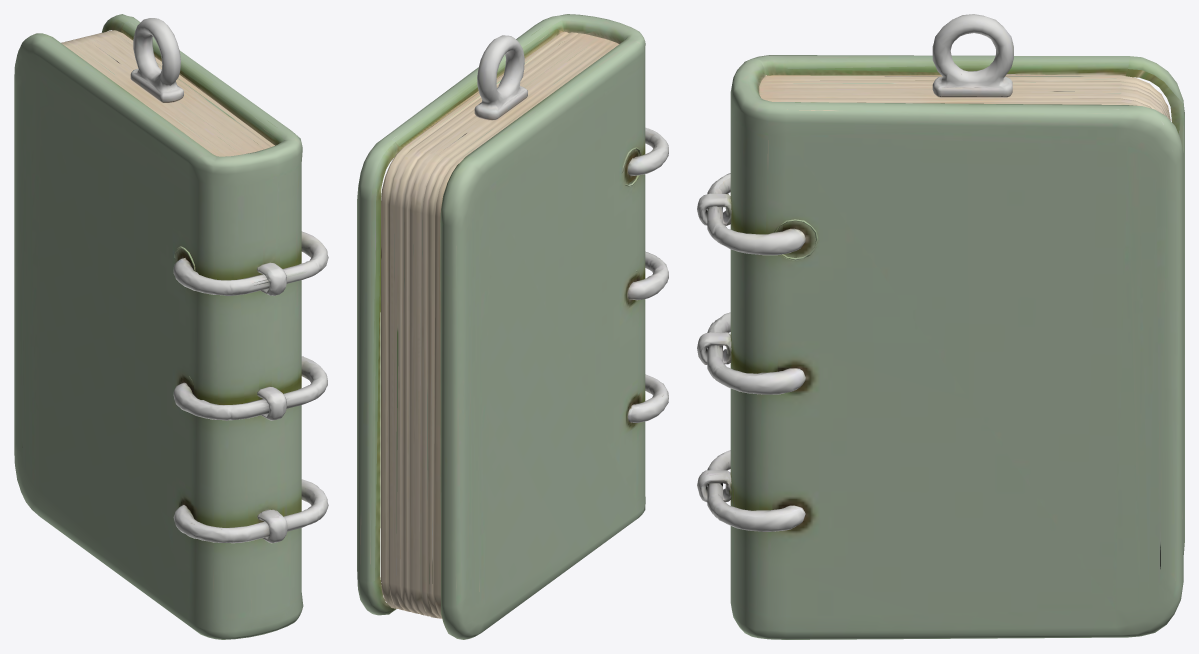
File: notebook.glb
The picture shows the model from 3 angles, left to right: view 1: azimuth 30°, elevation 25°; view 2: azimuth 150°, elevation 25°; view 3: azimuth 270°, elevation 25°; orthographic projection. The views are drawn at different scales.
Visible parts, largest first — view 1: tripo_node_6cbdf96e-d15b-42a1-907f-e98356ec6bd6; view 2: tripo_node_6cbdf96e-d15b-42a1-907f-e98356ec6bd6; view 3: tripo_node_6cbdf96e-d15b-42a1-907f-e98356ec6bd6.
Part boxes in pixels (x1=…): tripo_node_6cbdf96e-d15b-42a1-907f-e98356ec6bd6: x1=14, y1=14, x2=328, y2=639; tripo_node_6cbdf96e-d15b-42a1-907f-e98356ec6bd6: x1=357, y1=14, x2=668, y2=639; tripo_node_6cbdf96e-d15b-42a1-907f-e98356ec6bd6: x1=697, y1=14, x2=1184, y2=639.
Size of the model in its own units: 0.049 by 0.18 by 0.1328.
1 material, 1 textured.
